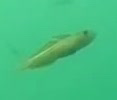smallfish: (22, 20, 100, 76)
